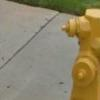Hydrant: (56, 5, 100, 100)
